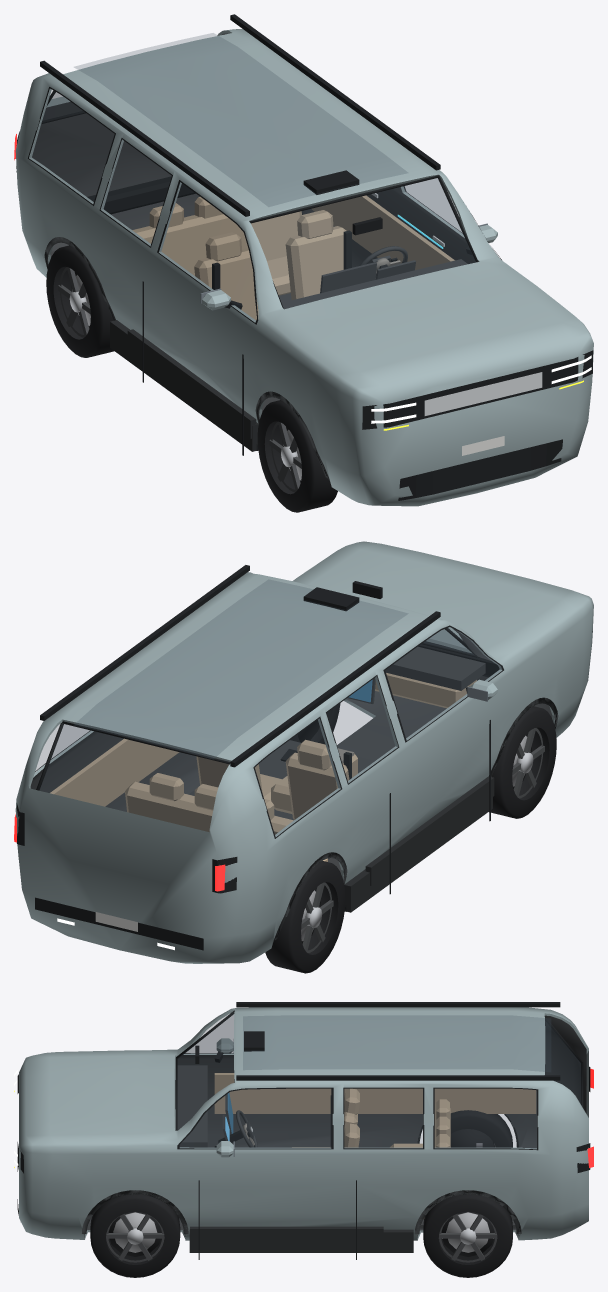
Rendered from fangchengbao-tai7.glb.
3 views of the same model, one above another, from view 1: azimuth 30°, elevation 25°; view 2: azimuth 150°, elevation 25°; view 3: azimuth 270°, elevation 25° (orthographic). The views are drawn at different scales.
Visible parts, largest first — view 1: Body, Surface_CarRoot_Glass, Surface_CarRoot_BlackTrim, Interior_CarRoot_InteriorLeather, Surface_CarRoot_Cladding, Surface_WheelFrontR_Tyre, Surface_WheelRearR_Tyre, Interior_CarRoot_InteriorDark, Surface_CarRoot_Chrome, Interior_CarRoot_BlackTrim, Surface_WheelFrontR_Rim, Surface_WheelRearR_Rim (+1 smaller); view 2: Body, Surface_CarRoot_Glass, Interior_CarRoot_InteriorLeather, Surface_CarRoot_BlackTrim, Surface_CarRoot_Cladding, Surface_WheelRearR_Tyre, Surface_WheelFrontR_Tyre, Interior_CarRoot_InteriorDark, Surface_WheelRearR_Rim, Surface_WheelFrontR_Rim, Interior_CarRoot_BlackTrim, Surface_WheelFrontL_Tyre; view 3: Body, Surface_CarRoot_Glass, Interior_CarRoot_InteriorLeather, Surface_CarRoot_BlackTrim, Surface_CarRoot_Cladding, Surface_WheelFrontL_Tyre, Surface_WheelRearL_Tyre, Interior_CarRoot_InteriorDark, Surface_WheelRearR_Tyre, Surface_WheelRearL_Rim, Surface_WheelFrontL_Rim, WheelRearL_BrakeDisc (+2 smaller).
Boxes of the visible parts, box(x1,y1,x2,y2) form: Body: box(15, 29, 593, 506); Surface_CarRoot_Glass: box(29, 33, 475, 321); Surface_CarRoot_BlackTrim: box(16, 14, 593, 500); Interior_CarRoot_InteriorLeather: box(132, 195, 454, 320); Surface_CarRoot_Cladding: box(44, 237, 328, 479); Surface_WheelFrontR_Tyre: box(257, 400, 337, 512); Surface_WheelRearR_Tyre: box(46, 245, 115, 357); Interior_CarRoot_InteriorDark: box(50, 251, 467, 411); Surface_CarRoot_Chrome: box(371, 193, 542, 415); Interior_CarRoot_BlackTrim: box(212, 217, 387, 289); Surface_WheelFrontR_Rim: box(269, 421, 301, 492); Surface_WheelRearR_Rim: box(58, 267, 90, 337); Body: box(15, 541, 593, 963); Surface_CarRoot_Glass: box(35, 580, 501, 836); Interior_CarRoot_InteriorLeather: box(50, 673, 476, 861); Surface_CarRoot_BlackTrim: box(16, 565, 592, 950); Surface_CarRoot_Cladding: box(275, 697, 558, 939); Surface_WheelRearR_Tyre: box(265, 861, 345, 973); Surface_WheelFrontR_Tyre: box(489, 706, 556, 818); Interior_CarRoot_InteriorDark: box(188, 646, 485, 872); Surface_WheelRearR_Rim: box(301, 882, 333, 952); Surface_WheelFrontR_Rim: box(512, 728, 544, 798); Interior_CarRoot_BlackTrim: box(280, 581, 382, 779); Surface_WheelFrontL_Tyre: box(290, 703, 340, 744); Body: box(19, 1007, 588, 1240); Surface_CarRoot_Glass: box(177, 1013, 580, 1148); Interior_CarRoot_InteriorLeather: box(214, 1073, 536, 1218); Surface_CarRoot_BlackTrim: box(17, 1002, 590, 1259); Surface_CarRoot_Cladding: box(82, 1114, 521, 1252); Surface_WheelFrontL_Tyre: box(90, 1194, 180, 1277); Surface_WheelRearL_Tyre: box(423, 1194, 512, 1277); Interior_CarRoot_InteriorDark: box(177, 1065, 515, 1228); Surface_WheelRearR_Tyre: box(450, 1110, 512, 1147); Surface_WheelRearL_Rim: box(438, 1214, 497, 1262); Surface_WheelFrontL_Rim: box(106, 1214, 164, 1262); WheelRearL_BrakeDisc: box(446, 1212, 489, 1252).
Size of the model in its own units: 2.32 by 1.86 by 5.09.
